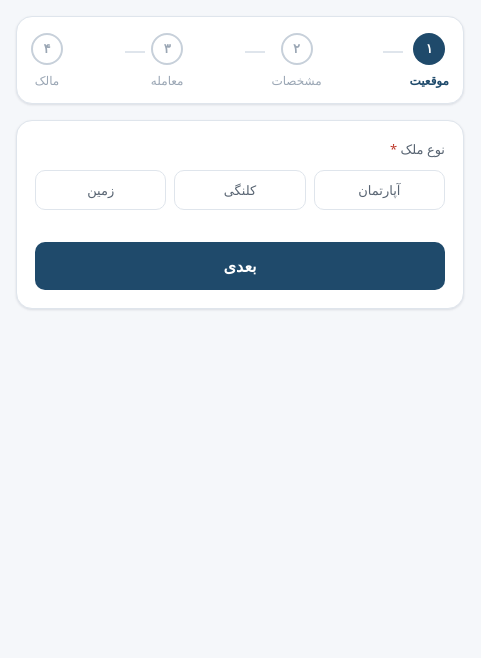
Test: AddFileScreen wizard › shows floor and unit fields for apartment type
The width and height of the screenshot is (481, 658).
Click the button "آپارتمان": (379, 190) [314, 170, 445, 210]
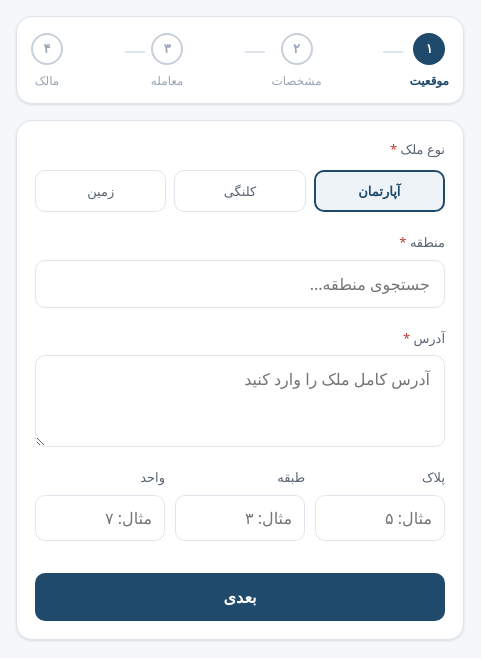
Result: the text "طبقه" is shown at [277, 468, 305, 486]
Result: the text "واحد" is shown at [140, 468, 165, 486]
